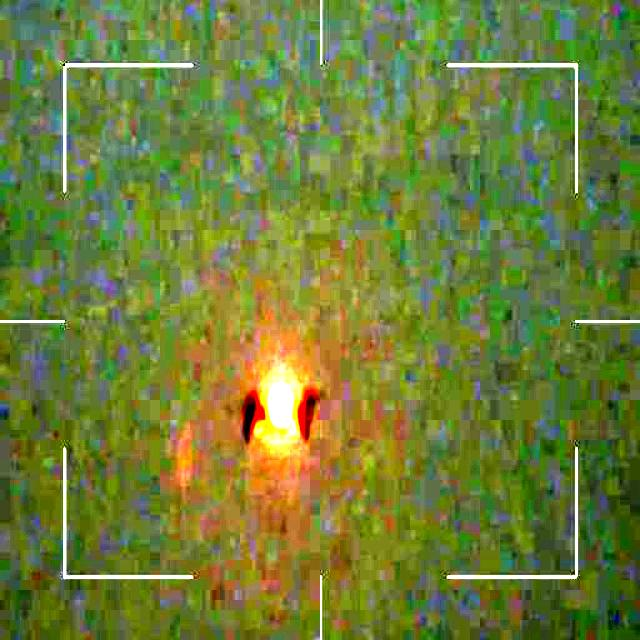bird: (241, 366, 324, 448)
